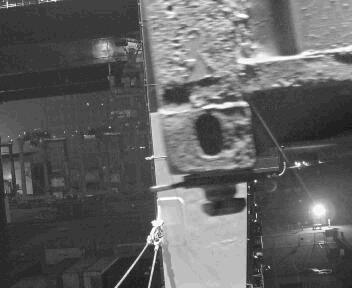twist_lock_1: (170, 160, 266, 222)
